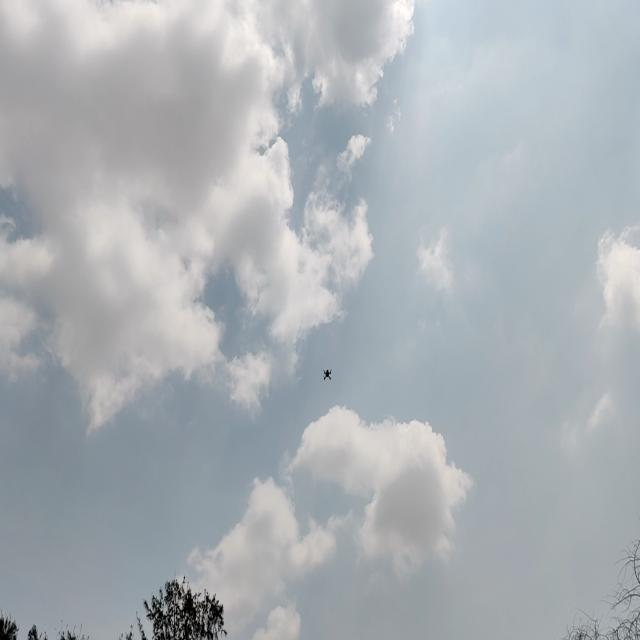drone: (322, 361, 336, 388)
